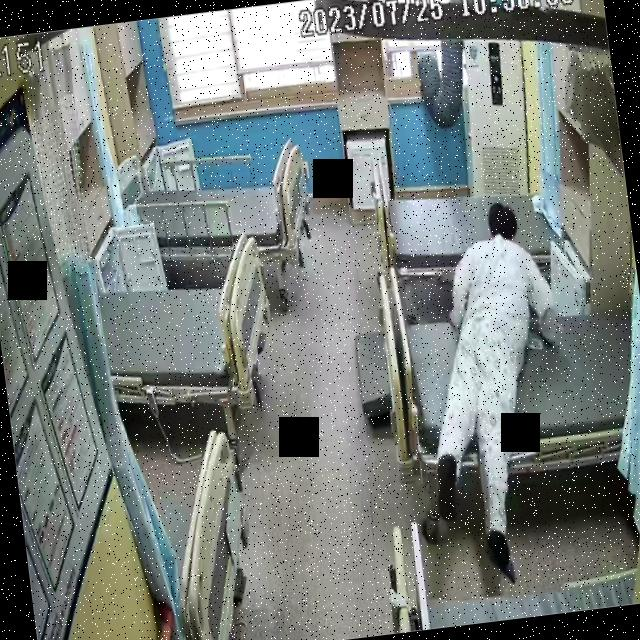bed: (371, 237, 640, 490), (366, 124, 570, 302), (97, 234, 280, 418), (132, 143, 313, 278)
danger: (404, 194, 589, 589)
patient: (406, 194, 588, 588)
